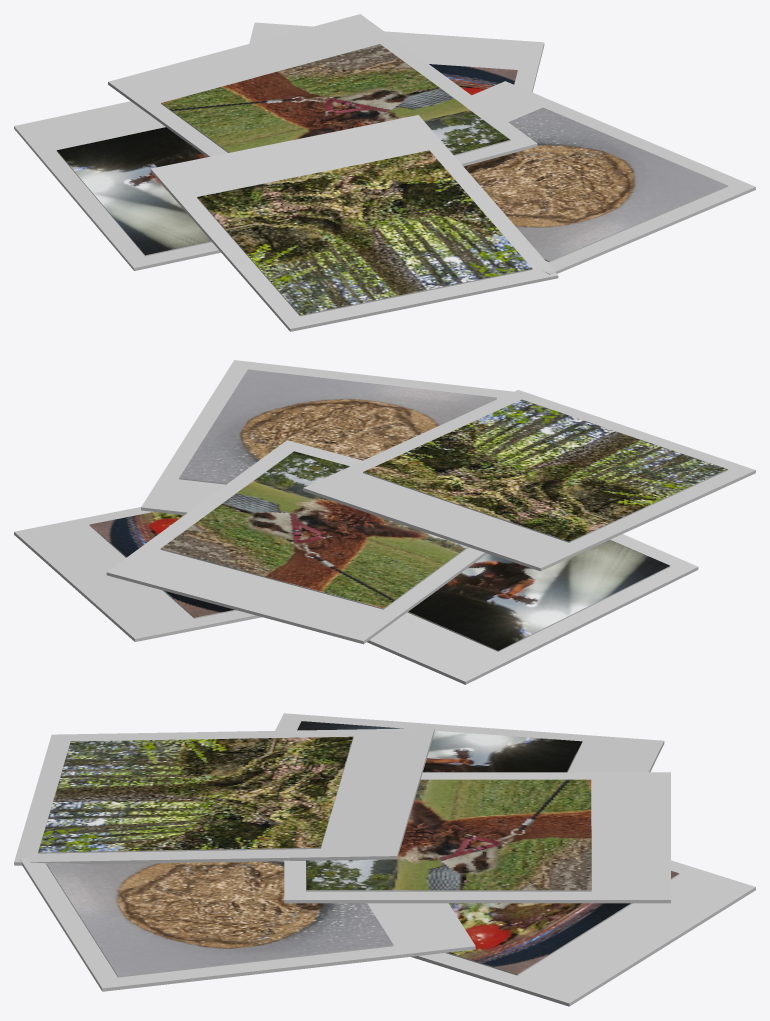
File: Polaroids.fbx
The picture shows the model from 3 angles, top to bottom: view 1: azimuth 30°, elevation 25°; view 2: azimuth 150°, elevation 25°; view 3: azimuth 270°, elevation 25°; orthographic projection. The views are drawn at different scales.
Visible parts, largest first — view 1: Polaroid 1, Polaroid 3, Polaroid 5, Polaroid 2, Polaroid 4; view 2: Polaroid 1, Polaroid 3, Polaroid 5, Polaroid 2, Polaroid 4; view 3: Polaroid 1, Polaroid 3, Polaroid 5, Polaroid 4, Polaroid 2.
Part boxes in pixels (x1,y1,x2,y2): Polaroid 1: (150, 115, 558, 331); Polaroid 3: (108, 14, 537, 166); Polaroid 5: (463, 81, 755, 274); Polaroid 2: (14, 101, 220, 270); Polaroid 4: (249, 22, 544, 95); Polaroid 1: (303, 390, 755, 571); Polaroid 3: (106, 440, 487, 644); Polaroid 5: (141, 360, 520, 515); Polaroid 2: (367, 534, 698, 684); Polaroid 4: (14, 507, 261, 641); Polaroid 1: (14, 728, 434, 865); Polaroid 3: (284, 772, 670, 903); Polaroid 5: (20, 857, 475, 991); Polaroid 4: (411, 860, 755, 1006); Polaroid 2: (275, 713, 664, 772).
Size of the model in its own units: 37.93 by 2.56 by 41.27.
6 materials, 5 textured.
